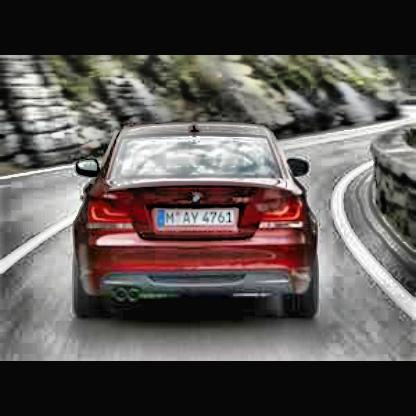BMW 1 Series Coupe 2012: (46, 102, 345, 350)
